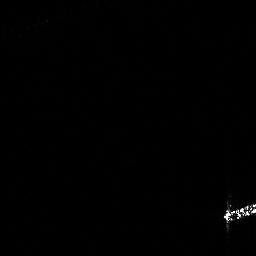ship: (222, 202, 256, 223)
